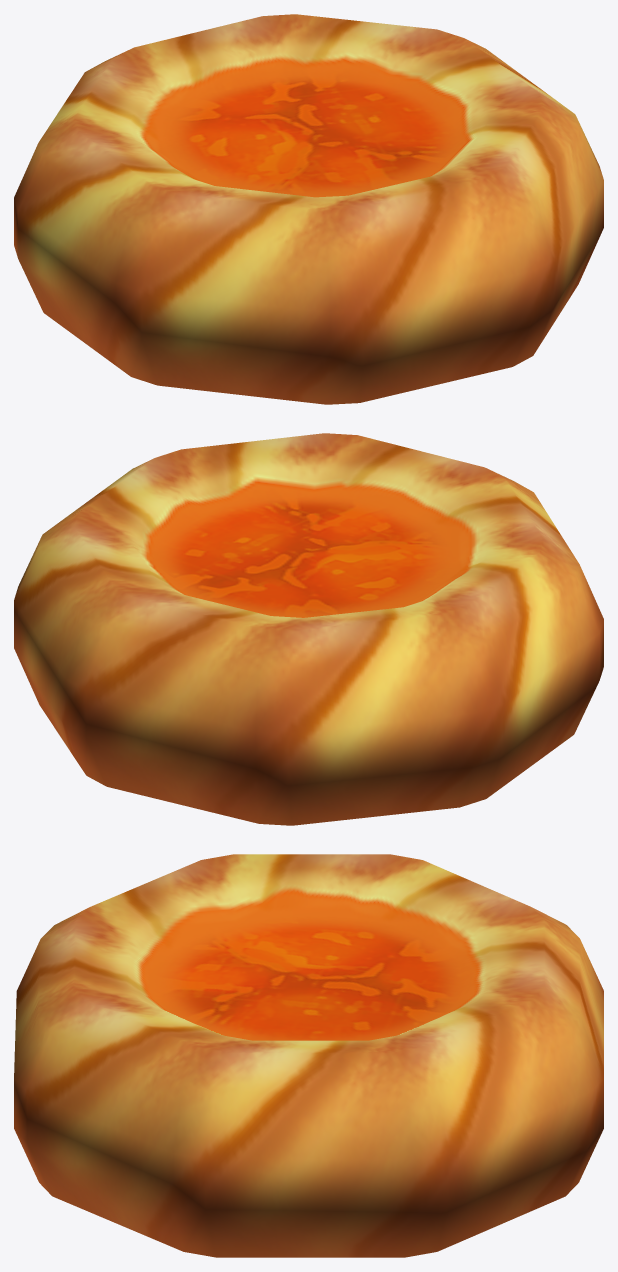
Rendered from 010-Danishes2.FBX.
3 renders of one model, top to bottom at view 1: azimuth 30°, elevation 25°; view 2: azimuth 150°, elevation 25°; view 3: azimuth 270°, elevation 25°, orthographic. The views are drawn at different scales.
Visible parts, largest first — view 1: 010-Danishes2; view 2: 010-Danishes2; view 3: 010-Danishes2.
Boxes of the visible parts, <box> form: 010-Danishes2: <box>14,14,603,404</box>; 010-Danishes2: <box>14,433,603,825</box>; 010-Danishes2: <box>14,854,603,1257</box>.
Size of the model in its own units: 16.15 by 6.01 by 16.14.
